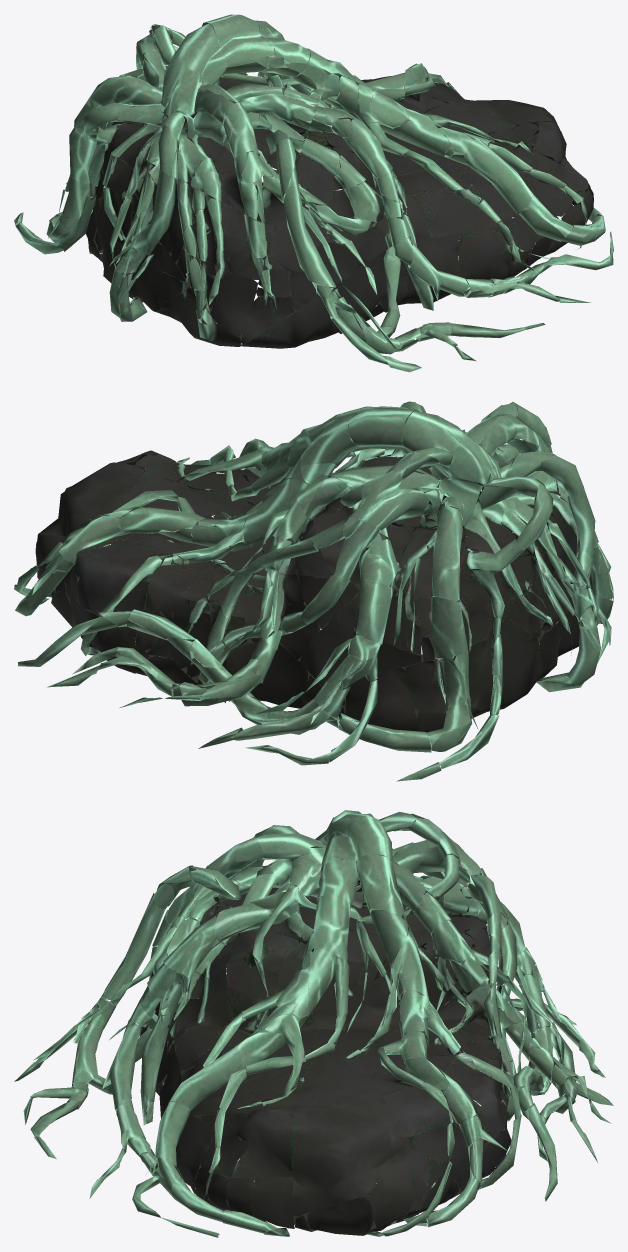
Rendered from vine-clump.glb.
3 renders of one model, top to bottom at view 1: azimuth 30°, elevation 25°; view 2: azimuth 150°, elevation 25°; view 3: azimuth 270°, elevation 25°, orthographic. The views are drawn at different scales.
Visible parts, largest first — view 1: mesh_node; view 2: mesh_node; view 3: mesh_node.
Part boxes in pixels (x1,y1,x2,y2): mesh_node: [14, 14, 613, 372]; mesh_node: [14, 401, 613, 781]; mesh_node: [14, 810, 613, 1237].
Bounding box in the file's own units: 4.98 × 2.5 × 5.17.
Materials: 1 (1 with a texture image).
